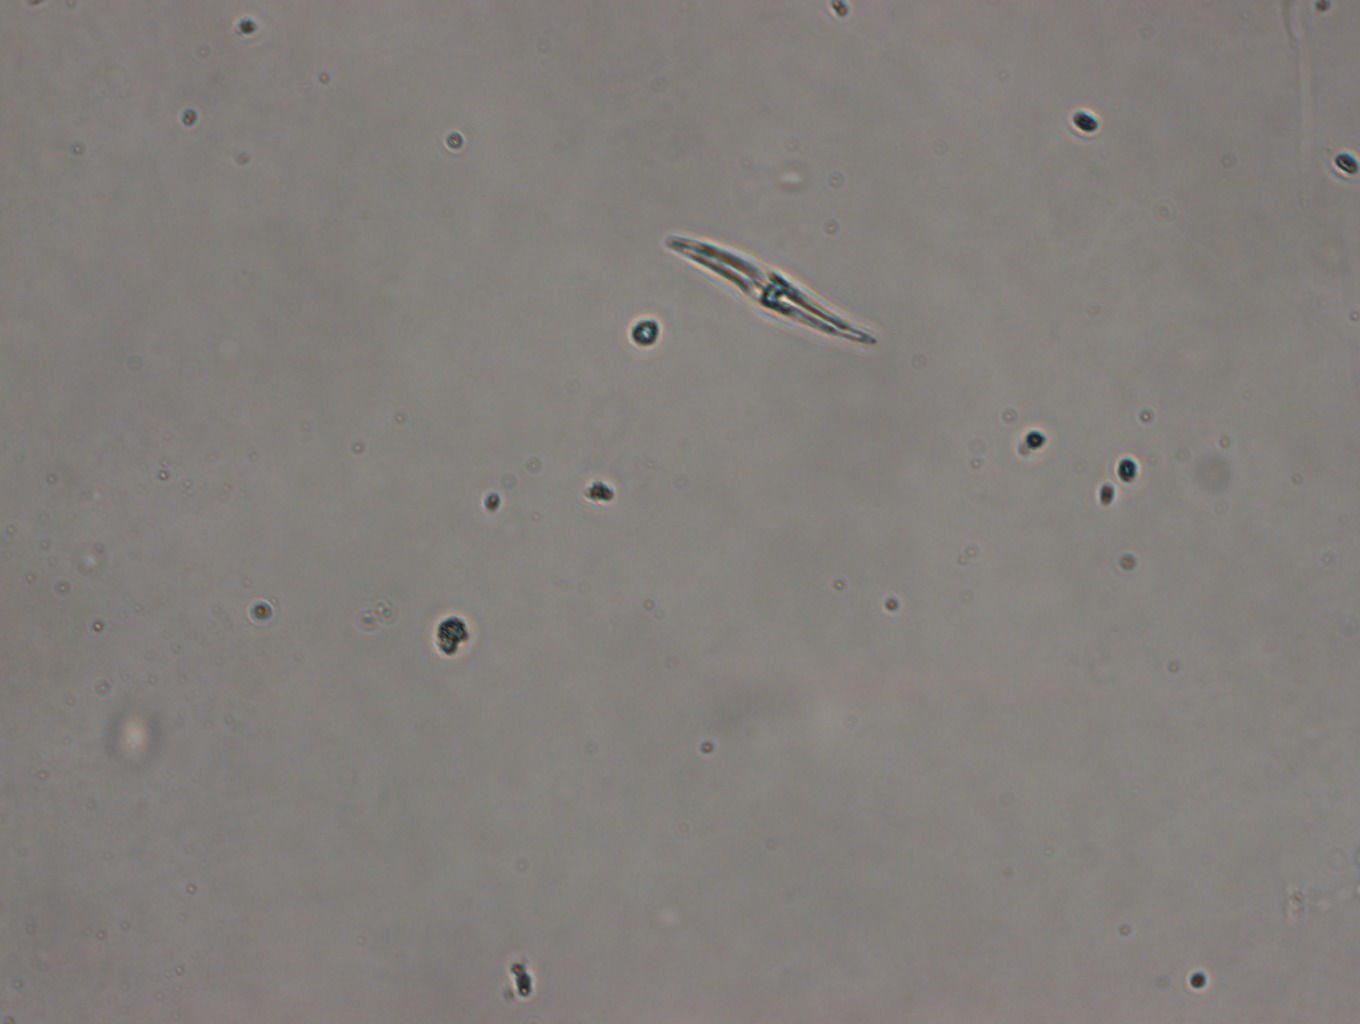pleurosigma pelagicum: (655, 232, 872, 344)
